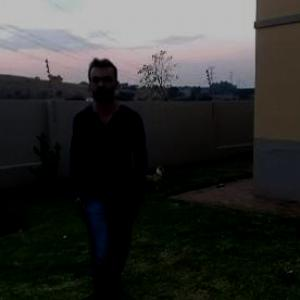follow: (74, 60, 151, 299)
